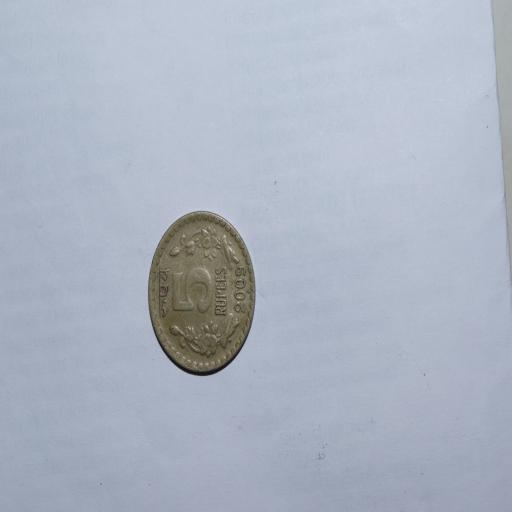rupee5: (147, 212, 255, 375)
